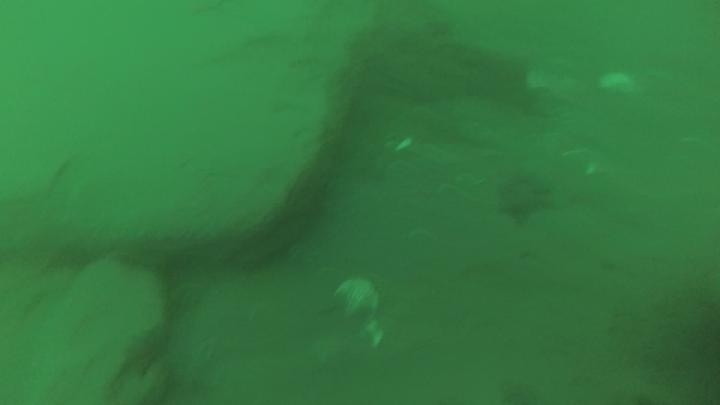starfish: (493, 171, 554, 229)
